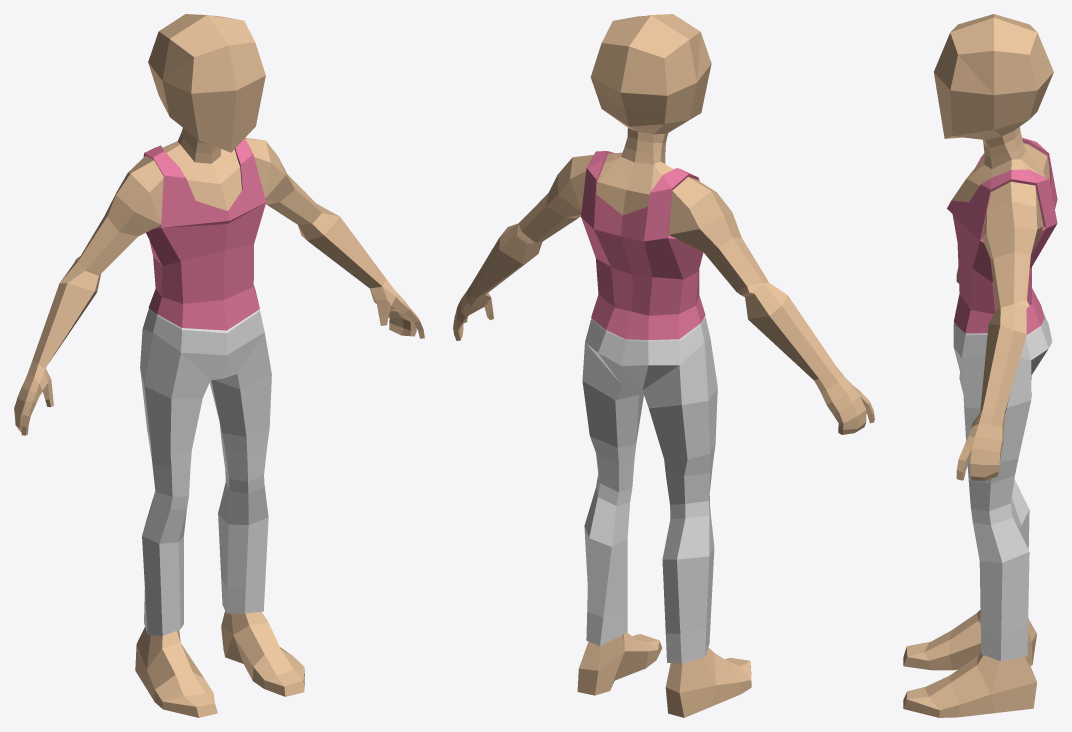
Rendered from character.fbx.
3 renders of one model, left to right at view 1: azimuth 30°, elevation 25°; view 2: azimuth 150°, elevation 25°; view 3: azimuth 270°, elevation 25°, orthographic. The views are drawn at different scales.
Visible parts, largest first — view 1: Cube; view 2: Cube; view 3: Cube.
Part boxes in pixels (left/top/right/bottom): Cube: left=14, top=14, right=424, bottom=717; Cube: left=453, top=14, right=874, bottom=717; Cube: left=903, top=14, right=1057, bottom=717.
Bounding box in the file's own units: 143 × 223 × 46.76.
